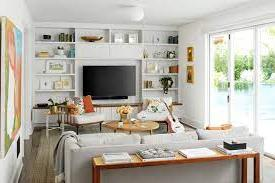TV: (81, 65, 141, 100)
chair: (58, 96, 103, 135)
console: (29, 100, 186, 124)
door: (231, 29, 257, 136), (208, 35, 232, 127), (259, 22, 273, 154)
sofa: (61, 128, 260, 183)
table: (89, 145, 256, 183), (107, 117, 159, 135), (41, 110, 63, 137)
